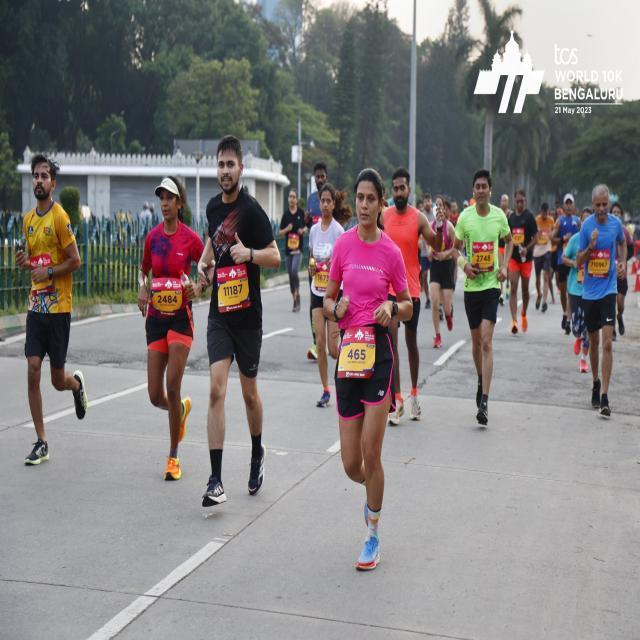dorsal: (340, 328, 375, 382), (215, 268, 252, 310), (150, 278, 187, 316), (587, 250, 612, 280), (473, 240, 495, 272)
